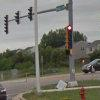Traffic light: (1, 5, 43, 41)
